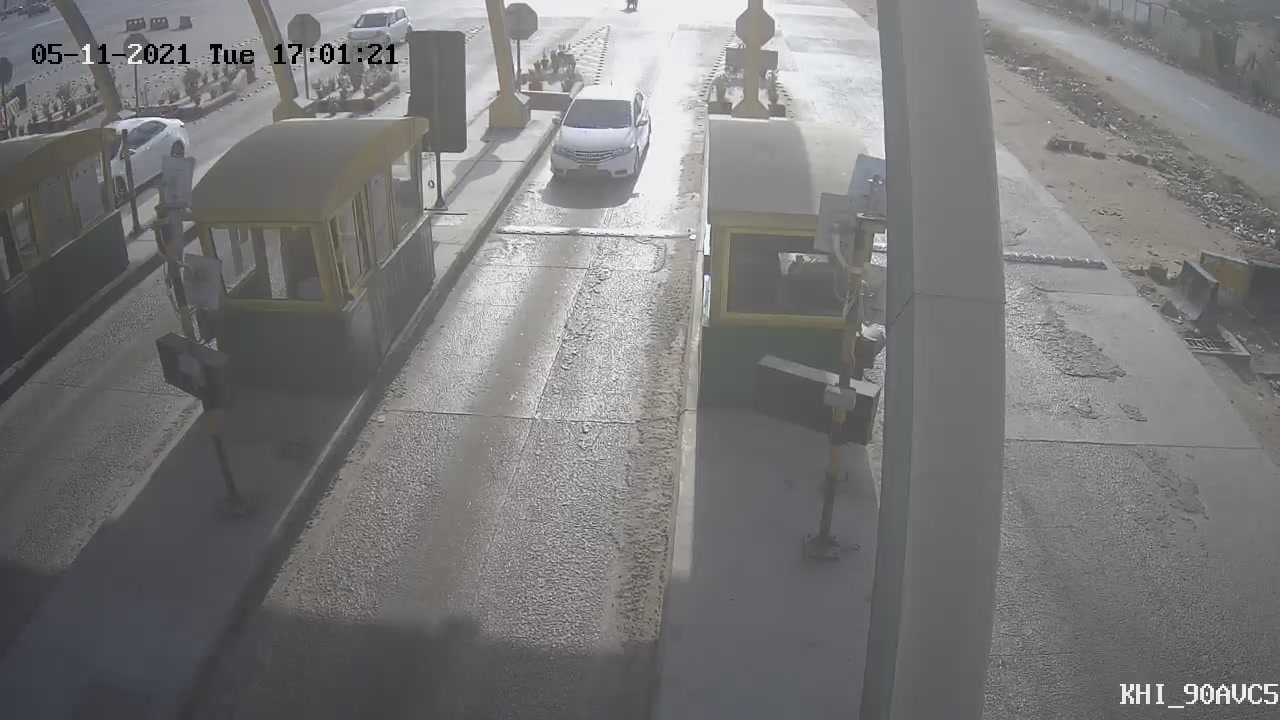F1: (521, 68, 673, 203)
